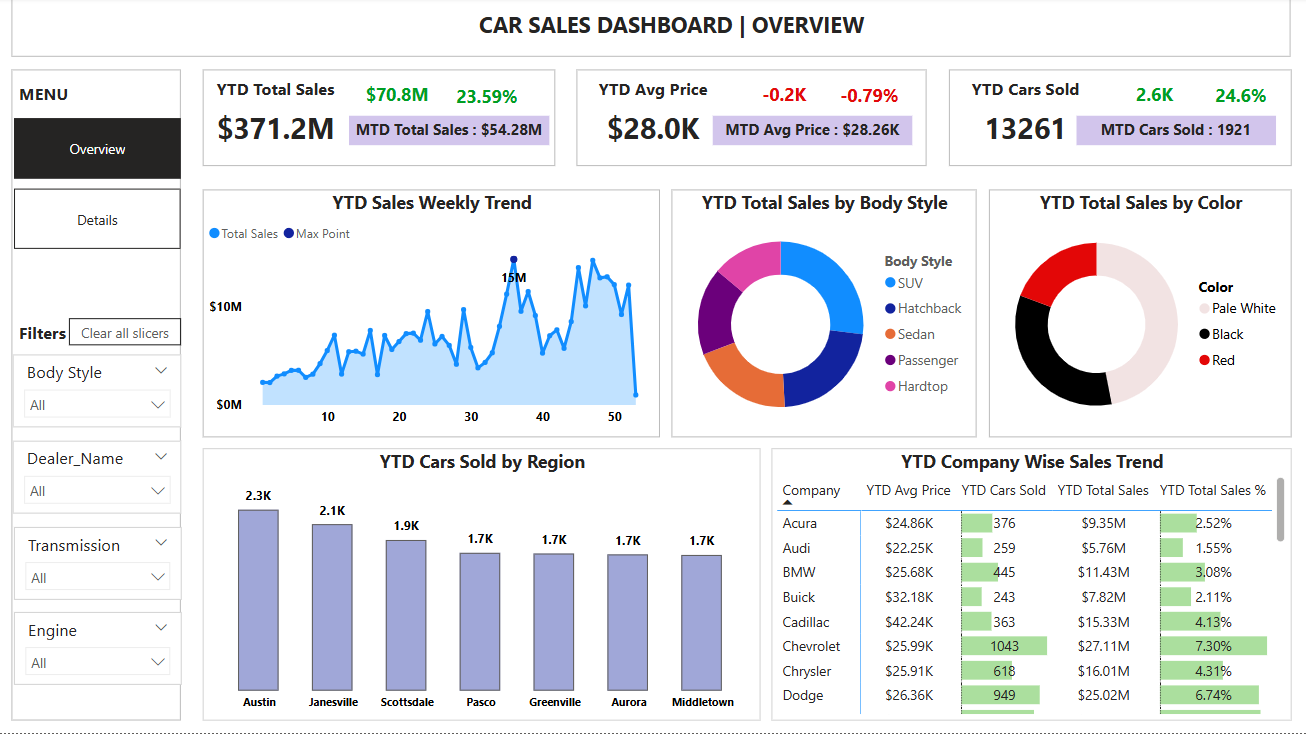

The dashboard page shown, as its layout file describes it:
{"tool":"powerbi","page":{"name":"Overview","canvas":[1280,720],"ordinal":0},"visuals":[{"type":"cardVisual","fields":{"Data":["Measures Table (2).MTD KPI"]},"box":[199,71.4,344.4,94.7],"z":0},{"type":"card","title":"YTD Total Sales","fields":{"Values":["Measures Table (2).YTD Total Sales"]},"box":[205.8,78.2,130.4,81],"z":1000},{"type":"card","title":"Yearly Sales Difference","fields":{"Values":["Measures Table (2).Sales difference"]},"box":[338.9,78.2,101.5,38.4],"z":2000},{"type":"card","title":"Yearly Sales Growth","fields":{"Values":["Measures Table (2).Sales Growth"]},"box":[440.5,78.2,74.1,41.2],"z":3000},{"type":"card","title":"MTD Total Sales","fields":{"Values":["Measures Table (2).MTD KPI"]},"box":[342,116,196,29],"z":4000},{"type":"cardVisual","fields":{"Data":["Measures Table (2).MTD KPI"]},"box":[12.8,0,1251.5,58.4],"z":5000},{"type":"cardVisual","fields":{"Data":["Measures Table (2).MTD KPI"]},"box":[12.8,71.3,165.3,637.1],"z":6000},{"type":"cardVisual","fields":{"Data":["Measures Table (2).MTD KPI"]},"box":[564.8,71.4,342.2,94.7],"z":7000},{"type":"cardVisual","fields":{"Data":["Measures Table (2).MTD KPI"]},"box":[929,71.4,334.8,94.7],"z":8000},{"type":"card","title":"YTD Avg Price","fields":{"Values":["Measures Table (2).YTD Avg Price"]},"box":[575,78.2,130.4,81],"z":9000},{"type":"card","title":"Yearly Sales Difference","fields":{"Values":["Measures Table (2).Avg Price Diff"]},"box":[725.9,78.2,83.7,38.4],"z":10000},{"type":"card","title":"Yearly Sales Difference","fields":{"Values":["Measures Table (2).Avg Price Growth"]},"box":[809.6,79.6,83.7,38.4],"z":11000},{"type":"card","title":"MTD Total Sales","fields":{"Values":["Measures Table (2).MDT Avg Price KPI"]},"box":[698.5,116.6,194.9,28.8],"z":12000},{"type":"card","title":"YTD Cars Sold","fields":{"Values":["Measures Table (2).YTD Cars Sold"]},"box":[938.6,78.2,130.4,81],"z":13000},{"type":"card","title":"Yearly Sales Difference","fields":{"Values":["Measures Table (2).Cars Sold Diff"]},"box":[1096.4,78.2,67.2,38.4],"z":14000},{"type":"card","title":"Yearly Sales Difference","fields":{"Values":["Measures Table (2).Cars Sold Growth"]},"box":[1181.5,79.6,67.2,38.4],"z":15000},{"type":"card","title":"MTD Total Sales","fields":{"Values":["Measures Table (2).MTD Cars Sold KPI"]},"box":[1053.9,116.6,194.9,28.8],"z":16000},{"type":"areaChart","title":"YTD Sales Weekly Trend","fields":{"Y":["Sum(car_data.Price ($))","Measures Table (2).Max Point For Area Chart"],"Category":["Calendar Table.Week Number"]},"box":[199.3,188.3,447.1,242.1],"z":17000},{"type":"donutChart","fields":{"Category":["car_data.Body Style"],"Y":["Measures Table (2).YTD Total Sales"]},"box":[657.9,188.3,298.4,242.1],"z":18000},{"type":"donutChart","fields":{"Y":["Measures Table (2).YTD Total Sales"],"Category":["car_data.Color"]},"box":[968.2,188.3,296.2,242.1],"z":19000},{"type":"pivotTable","title":"YTD Company Wise Sales Trend","fields":{"Rows":["car_data.Company"],"Values":["Measures Table (2).YTD Avg Price","Measures Table (2).YTD Cars Sold","Measures Table (2).YTD Total Sales1","Measures Table (2).YTD Total Sales"]},"box":[755.7,441.4,508.7,266.6],"z":20000},{"type":"textbox","box":[464.7,7.3,414.5,45.2],"z":21000},{"type":"group","id":"g1","title":"Group 1","box":[13.5,349.7,165.1,322.8],"z":22000,"group":"g2"},{"type":"clusteredColumnChart","title":"YTD Cars Sold by Region","fields":{"Y":["Measures Table (2).YTD Cars Sold"],"Category":["car_data.Dealer_Region"]},"box":[199.3,441.4,545.4,266.6],"z":22000},{"type":"pageNavigator","box":[14.7,118.6,163.9,129.6],"z":23000},{"type":"textbox","box":[14.7,311.8,77,33],"z":23000,"group":"g2"},{"type":"slicer","fields":{"Values":["car_data.Body Style"]},"box":[13.5,349.7,165.1,70.9],"z":23000,"group":"g1"},{"type":"textbox","box":[15.1,78.2,105.7,31.6],"z":24000},{"type":"slicer","fields":{"Values":["car_data.Dealer_Name"]},"box":[13.5,434.1,165.1,70.9],"z":24000,"group":"g1"},{"type":"actionButton","box":[68.7,314.4,109.8,26.1],"z":24003,"group":"g2"},{"type":"group","id":"g2","title":"Group 2","box":[13.5,311.8,165.1,360.7],"z":25000},{"type":"slicer","fields":{"Values":["car_data.Transmission"]},"box":[14.7,518.5,163.9,70.9],"z":25000,"group":"g1"},{"type":"slicer","fields":{"Values":["car_data.Engine"]},"box":[14.7,601.6,163.9,70.9],"z":26000,"group":"g1"}]}

Visuals, with their boxes in screenshot pixels (x1, y1, x2, y2), scaled from the page's 1280x720 canvas onto the 1306x734 screenshot:
cardVisual - Measures Table (2).MTD KPI: BBox(203, 73, 554, 169)
"YTD Total Sales" card: BBox(210, 80, 343, 162)
"Yearly Sales Difference" card: BBox(346, 80, 449, 119)
"Yearly Sales Growth" card: BBox(449, 80, 525, 122)
"MTD Total Sales" card: BBox(349, 118, 549, 148)
cardVisual - Measures Table (2).MTD KPI: BBox(13, 0, 1290, 60)
cardVisual - Measures Table (2).MTD KPI: BBox(13, 73, 182, 722)
cardVisual - Measures Table (2).MTD KPI: BBox(576, 73, 925, 169)
cardVisual - Measures Table (2).MTD KPI: BBox(948, 73, 1289, 169)
"YTD Avg Price" card: BBox(587, 80, 720, 162)
"Yearly Sales Difference" card: BBox(741, 80, 826, 119)
"Yearly Sales Difference" card: BBox(826, 81, 911, 120)
"MTD Total Sales" card: BBox(713, 119, 912, 148)
"YTD Cars Sold" card: BBox(958, 80, 1091, 162)
"Yearly Sales Difference" card: BBox(1119, 80, 1187, 119)
"Yearly Sales Difference" card: BBox(1205, 81, 1274, 120)
"MTD Total Sales" card: BBox(1075, 119, 1274, 148)
"YTD Sales Weekly Trend" areaChart: BBox(203, 192, 660, 439)
donutChart - car_data.Body Style x Measures Table (2).YTD Total Sales: BBox(671, 192, 976, 439)
donutChart - Measures Table (2).YTD Total Sales x car_data.Color: BBox(988, 192, 1290, 439)
"YTD Company Wise Sales Trend" pivotTable: BBox(771, 450, 1290, 722)
textbox: BBox(474, 7, 897, 54)
"Group 1" group: BBox(14, 356, 182, 686)
"YTD Cars Sold by Region" clusteredColumnChart: BBox(203, 450, 760, 722)
pageNavigator: BBox(15, 121, 182, 253)
textbox: BBox(15, 318, 94, 352)
slicer - car_data.Body Style: BBox(14, 356, 182, 429)
textbox: BBox(15, 80, 123, 112)
slicer - car_data.Dealer_Name: BBox(14, 443, 182, 515)
actionButton: BBox(70, 321, 182, 347)
"Group 2" group: BBox(14, 318, 182, 686)
slicer - car_data.Transmission: BBox(15, 529, 182, 601)
slicer - car_data.Engine: BBox(15, 613, 182, 686)
